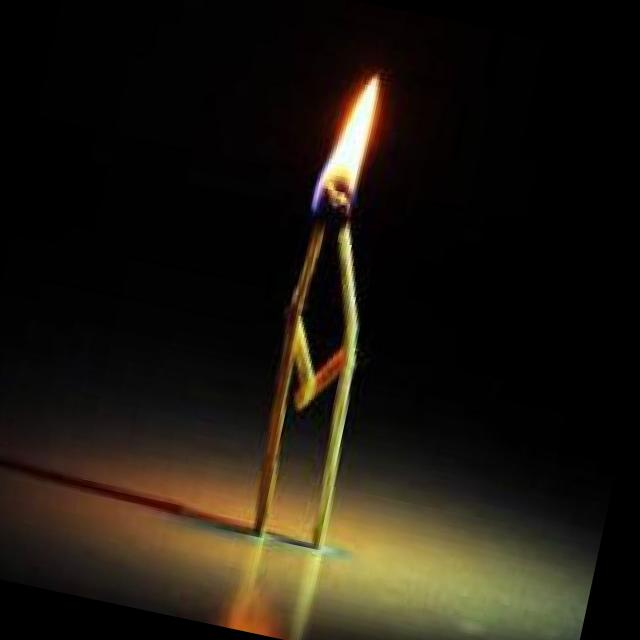Fire: (310, 66, 382, 217)
